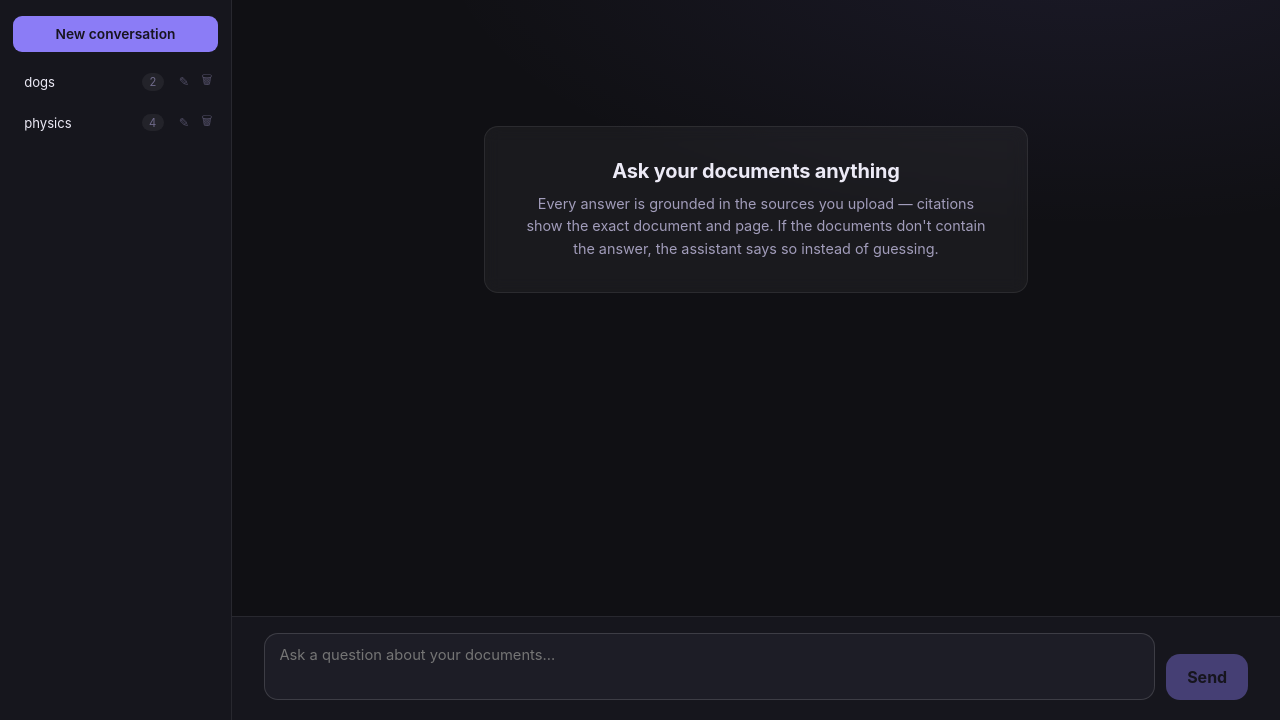
Test case: rename › enters inline edit, saves on Enter and updates the list instantly
This screenshot has width=1280, height=720.
Expected: the element with test id "conversation-item" showing "dogs 2 ✎ 🗑" is shown, [13,64,218,100]
Click the button named "Rename dogs": (184, 82) [174,69,194,95]
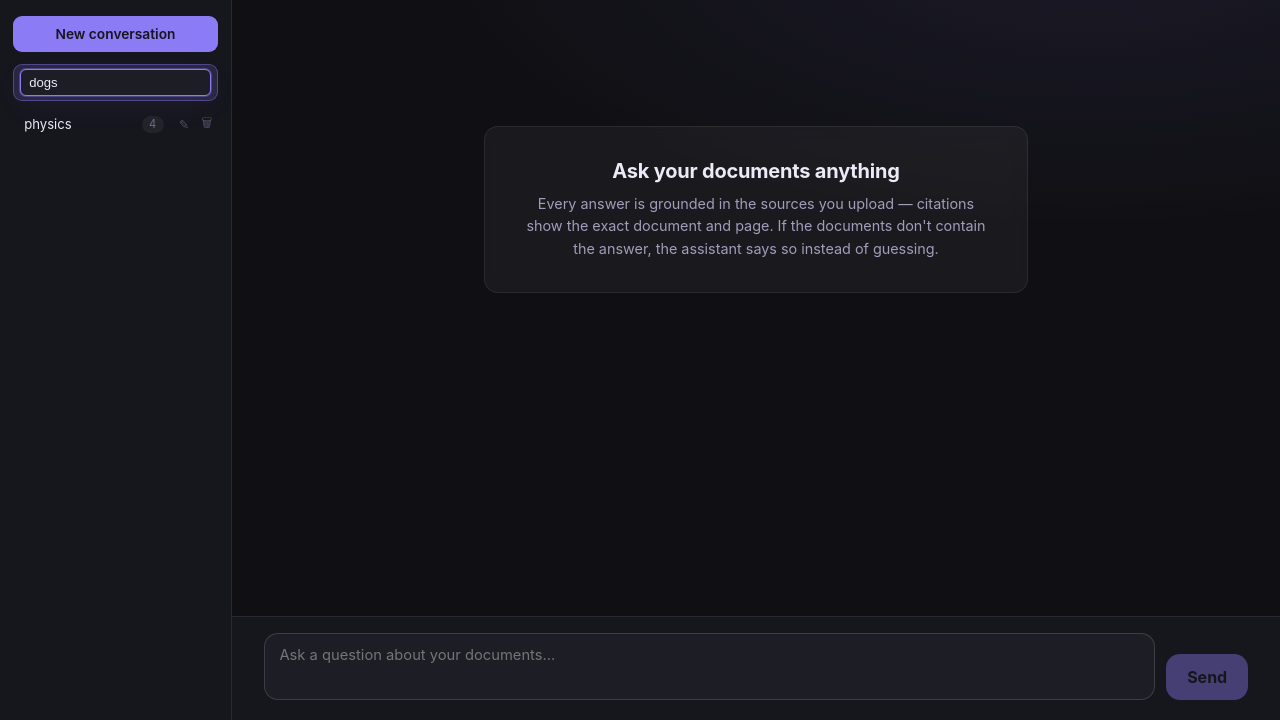
Replace the text in the field named "Conversation title" with "loyal companions": (116, 83) [20,69,211,96]
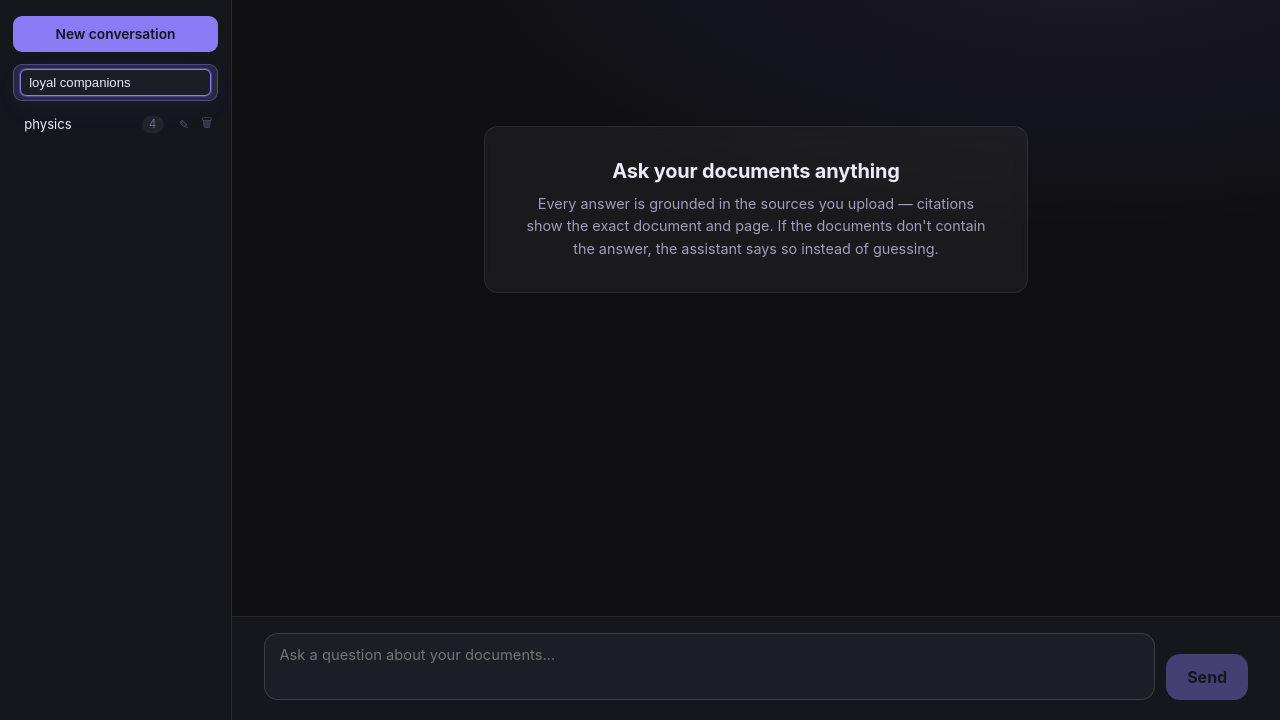
Press Enter in the field named "Conversation title", box [20,69,211,96]
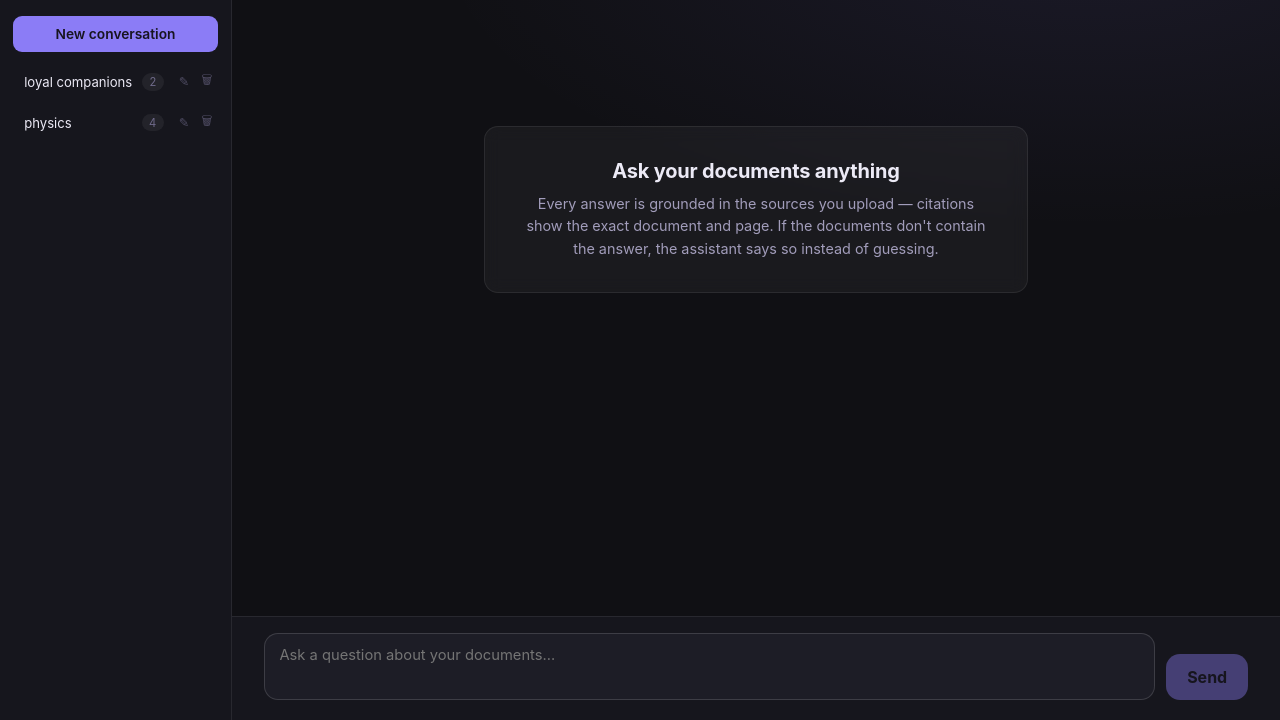
Now the text "loyal companions" is shown, box [24,74,132,90]
